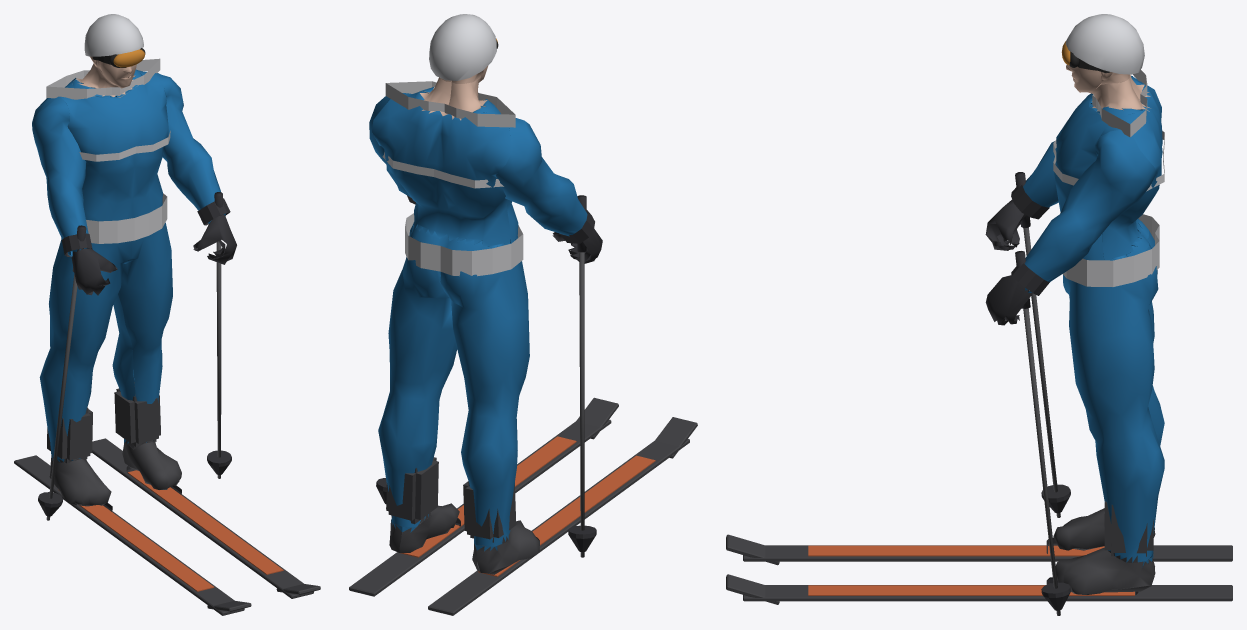
File: skier-stand.glb
3 views of the same model, side by side, from view 1: azimuth 30°, elevation 25°; view 2: azimuth 150°, elevation 25°; view 3: azimuth 270°, elevation 25° (orthographic). The views are drawn at different scales.
Parts seen in each view (by area): view 1: skier-stand; view 2: skier-stand; view 3: skier-stand.
Part boxes in pixels (<box>): skier-stand: <box>14,14,320,615</box>; skier-stand: <box>349,14,697,615</box>; skier-stand: <box>726,14,1232,615</box>.
Size of the model in its own units: 0.7842 by 1.88 by 1.54.
